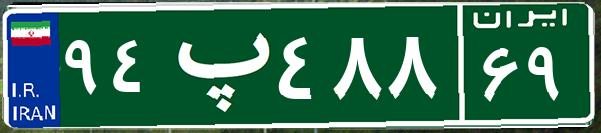4: (273, 28, 330, 110), (110, 28, 158, 105)
6: (475, 38, 525, 113)
8: (385, 28, 445, 110), (330, 28, 385, 110)
9: (57, 26, 110, 107), (525, 38, 570, 115)
پ: (158, 15, 273, 115)
